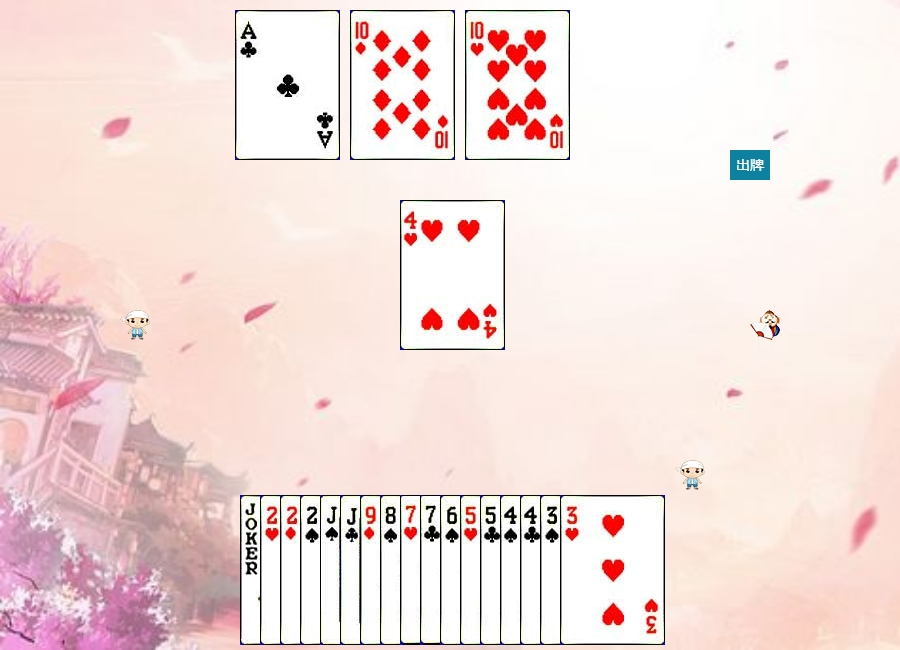10~1: (350, 10, 455, 160)
10~3: (465, 10, 570, 160)
11~2: (340, 495, 445, 645)
11~4: (320, 495, 425, 645)
14~2: (235, 10, 340, 160)
15~1: (280, 495, 385, 645)
15~3: (260, 495, 365, 645)
15~4: (300, 495, 405, 645)
17~3: (240, 495, 345, 645)
3~3: (560, 495, 665, 645)
3~4: (540, 495, 645, 645)
4~2: (520, 495, 625, 645)
4~3: (400, 200, 505, 350)
4~4: (500, 495, 605, 645)
5~2: (480, 495, 585, 645)
5~3: (460, 495, 565, 645)
6~4: (440, 495, 545, 645)
7~2: (420, 495, 525, 645)
7~3: (400, 495, 505, 645)
8~4: (380, 495, 485, 645)
9~1: (360, 495, 465, 645)
